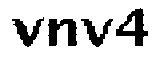4: (115, 7, 150, 49)
n: (48, 17, 78, 49)
v: (11, 15, 46, 47), (79, 16, 112, 48)
